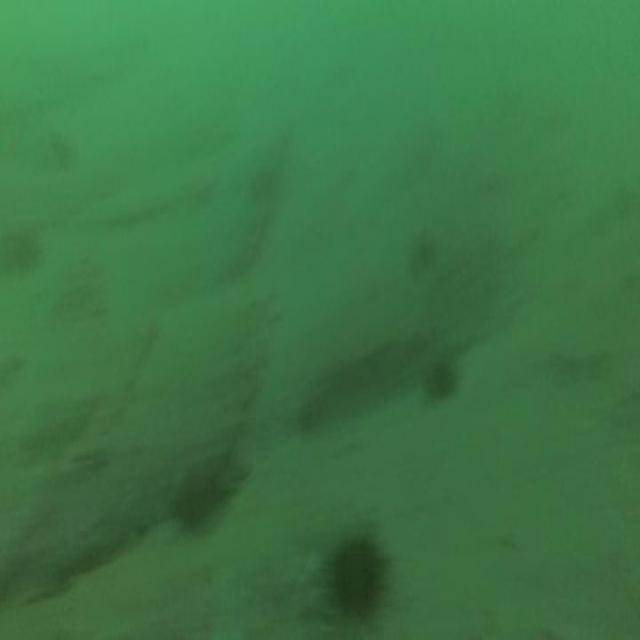echinus: (334, 537, 382, 613), (176, 472, 215, 528), (422, 361, 454, 402)
